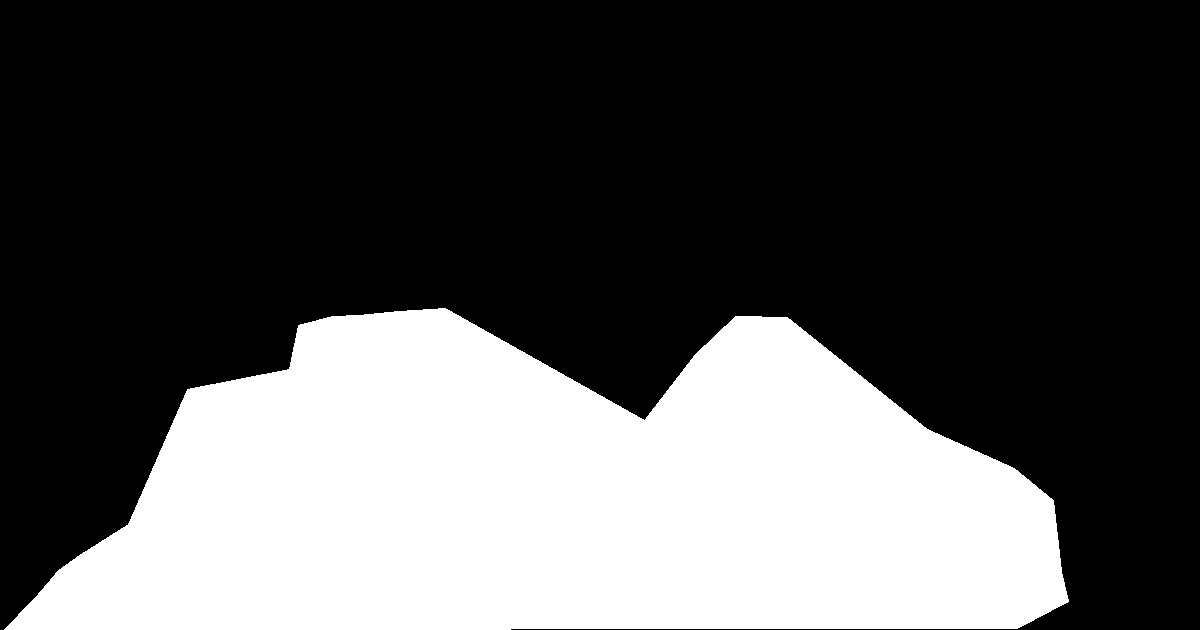Fire: (73, 304, 1070, 630)
